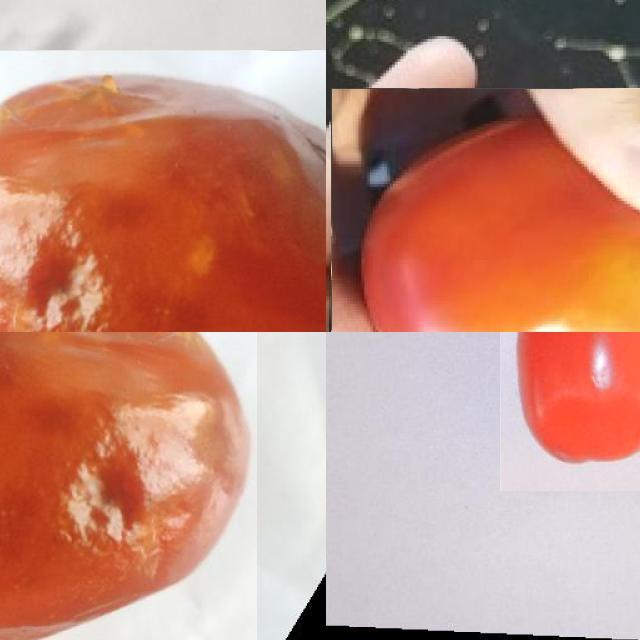Fresh Tomato: (330, 88, 640, 332), (500, 332, 640, 491)
Rotten Tomato: (0, 50, 326, 332), (0, 332, 257, 640)
